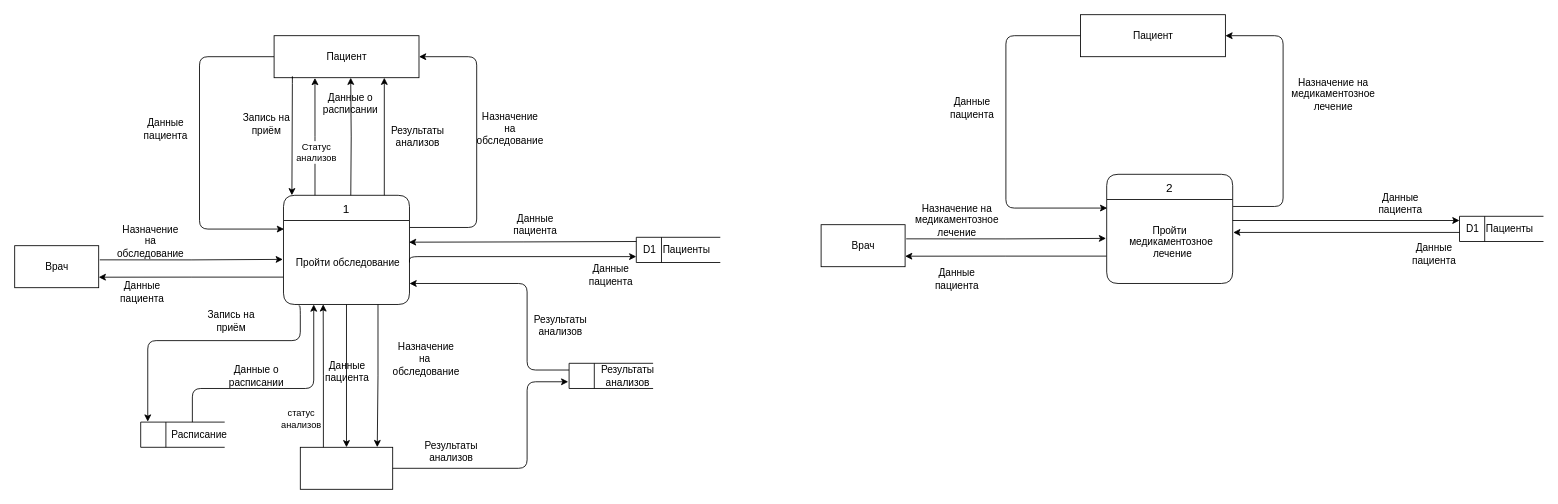
The diagram is 1558 pixels wide and 504 high, and some of its shapes have lost their labels. Each missing label, with the box of its shape:
D2: (568, 362, 653, 388)
D3: (140, 421, 225, 447)
Лаборатория: (299, 446, 393, 489)
